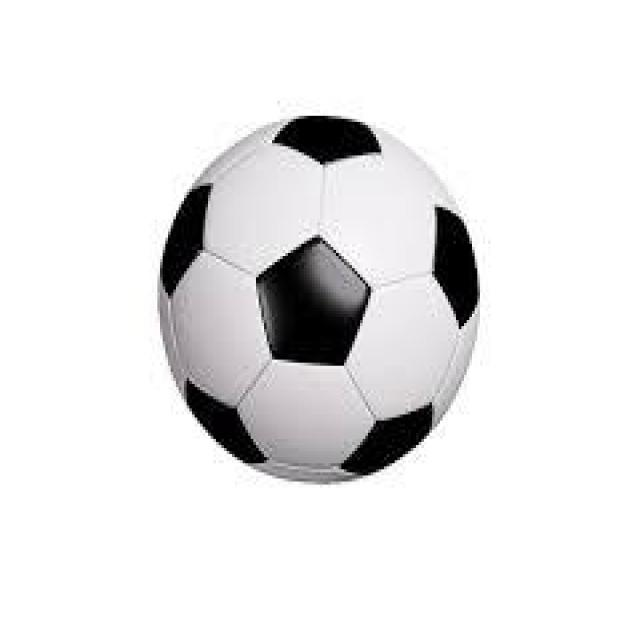Soccer Ball: (157, 112, 480, 482)
